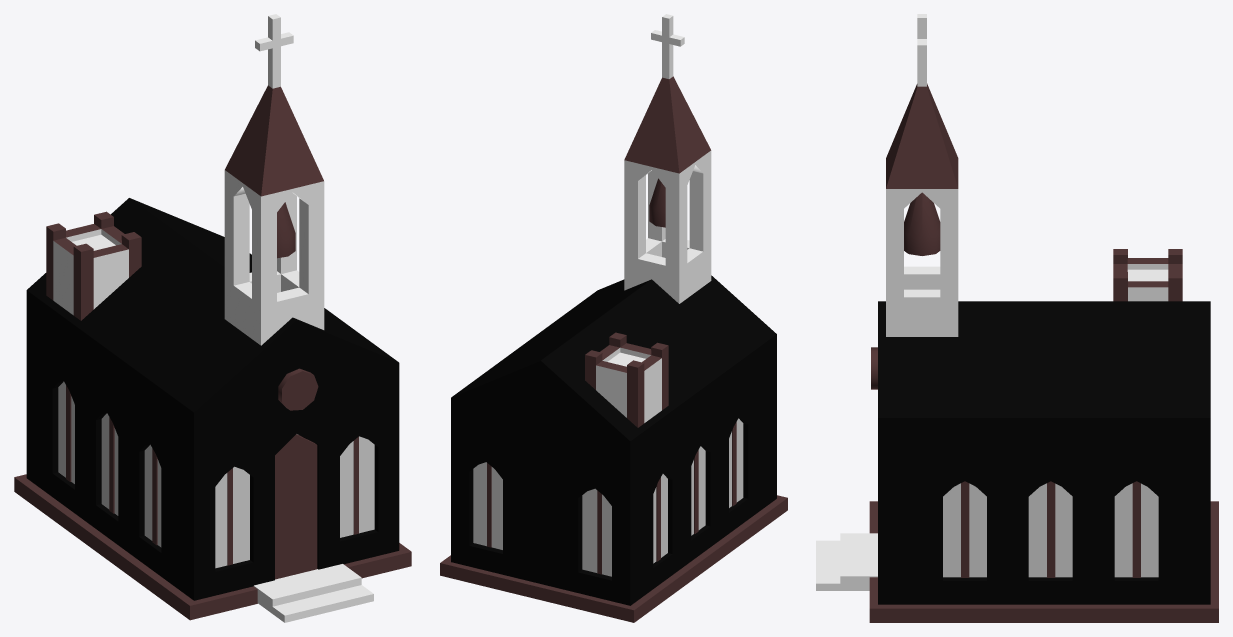
The model's file is church_01.FBX.
3 views of the same model, side by side, from view 1: azimuth 30°, elevation 25°; view 2: azimuth 150°, elevation 25°; view 3: azimuth 270°, elevation 25° (orthographic). The views are drawn at different scales.
Parts seen in each view (by area): view 1: Box038, Box041, Object001; view 2: Box038, Box041; view 3: Box038, Box041.
Boxes of the visible parts, bbox=[...] form: Box038: bbox=[14, 14, 411, 622]; Box041: bbox=[58, 381, 374, 568]; Object001: bbox=[275, 434, 317, 579]; Box038: bbox=[440, 14, 787, 622]; Box041: bbox=[473, 418, 743, 576]; Box038: bbox=[816, 14, 1218, 622]; Box041: bbox=[943, 483, 1158, 577].
Bounding box in the file's own units: 186 × 295 × 447.
